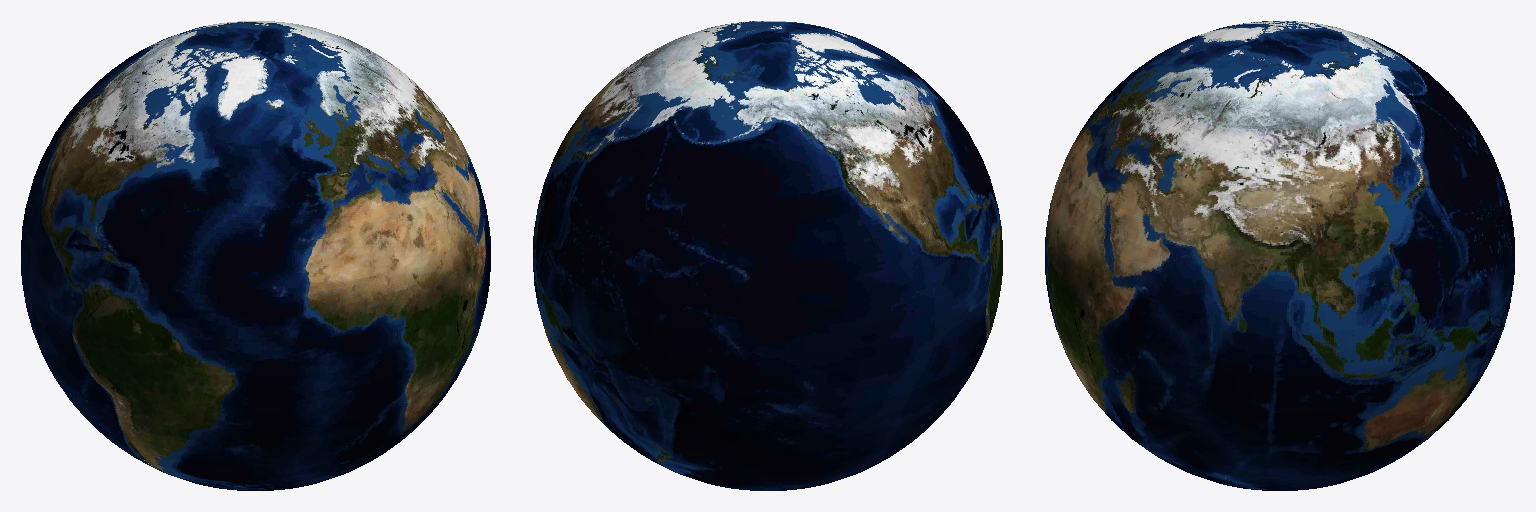
The picture shows the model from 3 angles: view 1: azimuth 30°, elevation 25°; view 2: azimuth 150°, elevation 25°; view 3: azimuth 270°, elevation 25°; orthographic projection.
Parts seen in each view (by area): view 1: Sphere002; view 2: Sphere002; view 3: Sphere002.
Part boxes in pixels (x1,y1,x2,y2): Sphere002: (21, 21, 490, 490); Sphere002: (533, 21, 1002, 490); Sphere002: (1045, 21, 1514, 490).
Size of the model in its own units: 50 by 50 by 50.
Materials: 1 (1 with a texture image).